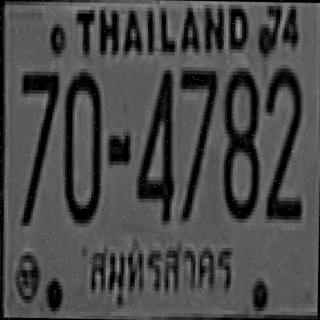N00: (61, 68, 100, 220)
N02: (264, 66, 302, 218)
N04: (136, 68, 174, 219)
N07: (17, 68, 58, 222), (176, 66, 216, 218), (18, 67, 58, 178)
N08: (220, 64, 259, 219)
P58: (85, 227, 238, 313)
